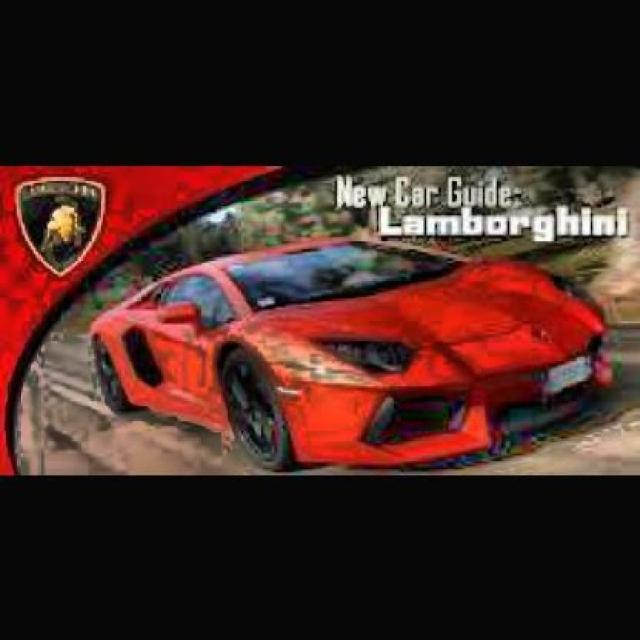red: (90, 233, 616, 470)
